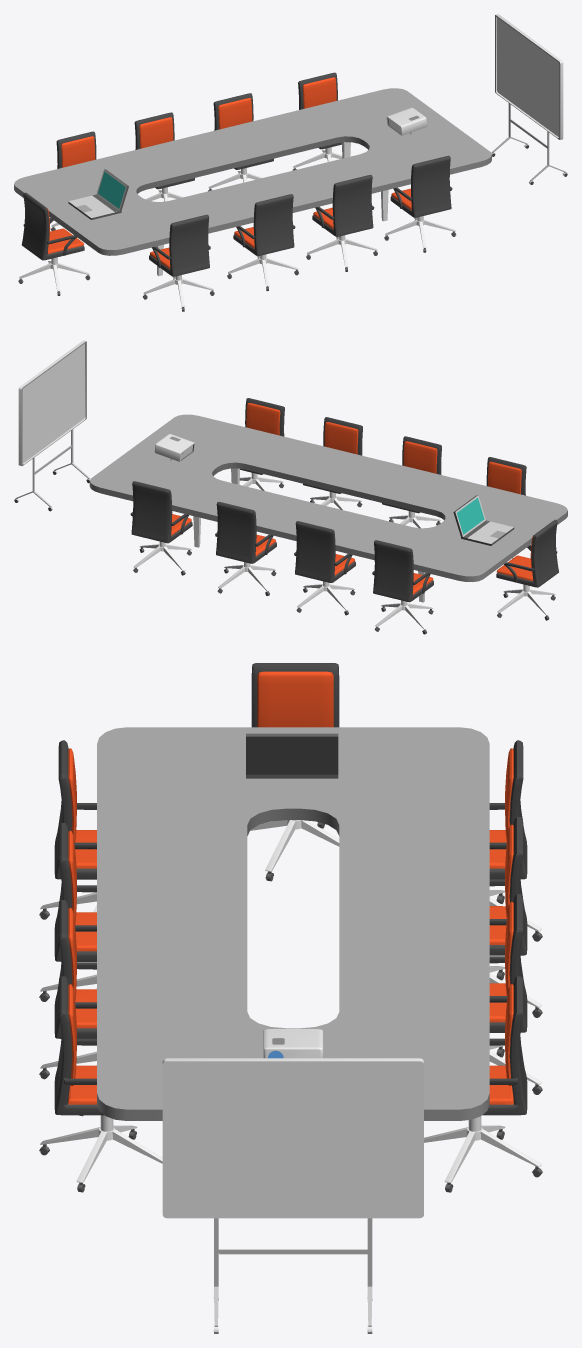
File: thomas.gltf
3 renders of one model, top to bottom at view 1: azimuth 30°, elevation 25°; view 2: azimuth 150°, elevation 25°; view 3: azimuth 270°, elevation 25°, orthographic. The views are drawn at different scales.
Parts seen in each view (by area): view 1: meet_Desk_D_palettes_0.001, whiteboard_D_palettes_0.001, Cube.016_D_palettes_0.001, Cube.014_D_palettes_0.001, Cube.015_D_palettes_0.001, Cube.013_D_palettes_0.001, Cube.011_D_palettes_0.001, Cube.010_D_palettes_0.001, Cube.017_D_palettes_0.001, Cube.012_D_palettes_0.001, Cube.009_D_palettes_0.001, Cube.008_D_palettes_0.001 (+1 smaller); view 2: meet_Desk_D_palettes_0.001, whiteboard_D_palettes_0.001, Cube.012_D_palettes_0.001, Cube.010_D_palettes_0.001, Cube.009_D_palettes_0.001, Cube.008_D_palettes_0.001, Cube.011_D_palettes_0.001, Cube.014_D_palettes_0.001, Cube.015_D_palettes_0.001, Cube.013_D_palettes_0.001, Cube.017_D_palettes_0.001, Cube.016_D_palettes_0.001 (+1 smaller); view 3: meet_Desk_D_palettes_0.001, whiteboard_D_palettes_0.001, Cube.011_D_palettes_0.001, Cube.013_D_palettes_0.001, Cube.012_D_palettes_0.001, Cube.017_D_palettes_0.001, Cube.016_D_palettes_0.001, Cube.015_D_palettes_0.001, Cube.014_D_palettes_0.001, Cube.010_D_palettes_0.001, Cube.009_D_palettes_0.001, Cube.008_D_palettes_0.001 (+1 smaller).
Part boxes in pixels (<box>): meet_Desk_D_palettes_0.001: <box>14,88,491,276</box>; whiteboard_D_palettes_0.001: <box>491,14,567,184</box>; Cube.016_D_palettes_0.001: <box>143,214,214,311</box>; Cube.014_D_palettes_0.001: <box>306,175,377,271</box>; Cube.015_D_palettes_0.001: <box>227,194,298,290</box>; Cube.013_D_palettes_0.001: <box>384,155,456,252</box>; Cube.011_D_palettes_0.001: <box>18,192,90,295</box>; Cube.010_D_palettes_0.001: <box>208,93,273,191</box>; Cube.017_D_palettes_0.001: <box>68,169,128,219</box>; Cube.012_D_palettes_0.001: <box>292,72,342,170</box>; Cube.009_D_palettes_0.001: <box>134,112,194,201</box>; Cube.008_D_palettes_0.001: <box>51,131,96,230</box>; meet_Desk_D_palettes_0.001: <box>89,414,567,602</box>; whiteboard_D_palettes_0.001: <box>14,340,90,511</box>; Cube.012_D_palettes_0.001: <box>130,481,192,575</box>; Cube.010_D_palettes_0.001: <box>215,502,276,595</box>; Cube.009_D_palettes_0.001: <box>294,521,355,615</box>; Cube.008_D_palettes_0.001: <box>372,540,433,634</box>; Cube.011_D_palettes_0.001: <box>496,519,558,620</box>; Cube.014_D_palettes_0.001: <box>303,417,362,510</box>; Cube.015_D_palettes_0.001: <box>382,436,441,528</box>; Cube.013_D_palettes_0.001: <box>239,398,284,491</box>; Cube.017_D_palettes_0.001: <box>453,495,514,545</box>; Cube.016_D_palettes_0.001: <box>486,457,526,558</box>; meet_Desk_D_palettes_0.001: <box>97,727,489,1120</box>; whiteboard_D_palettes_0.001: <box>162,1058,423,1333</box>; Cube.011_D_palettes_0.001: <box>250,663,339,881</box>; Cube.013_D_palettes_0.001: <box>39,976,162,1192</box>; Cube.012_D_palettes_0.001: <box>424,976,542,1192</box>; Cube.017_D_palettes_0.001: <box>246,733,338,778</box>; Cube.016_D_palettes_0.001: <box>39,740,96,919</box>; Cube.015_D_palettes_0.001: <box>39,822,96,1001</box>; Cube.014_D_palettes_0.001: <box>39,899,96,1116</box>; Cube.010_D_palettes_0.001: <box>489,893,542,1094</box>; Cube.009_D_palettes_0.001: <box>489,816,542,1017</box>; Cube.008_D_palettes_0.001: <box>489,740,542,941</box>.
Bounding box in the file's own units: 9.31 × 2.19 × 3.88.
1 material, 1 textured.
